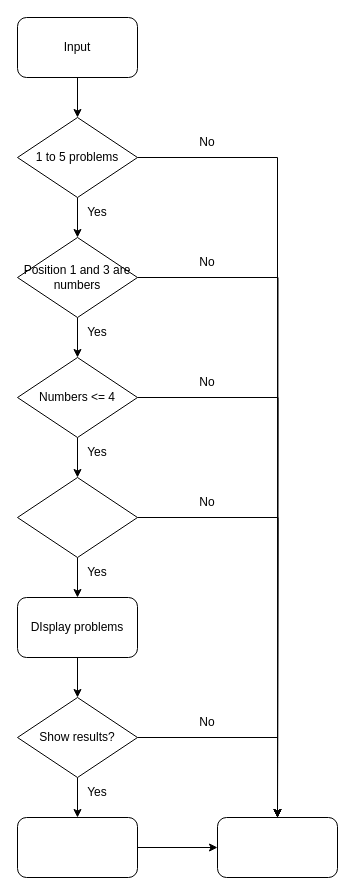
Image size: 355x895. Some labels were removed from this diagram. The shapes that lost their labels are listed below. From the top down, each one's centre as x and y in pixels, then its label:
At (77,517): "Operator == '+' or '-'".
At (77,847): "Display results".
At (277,847): "End".
